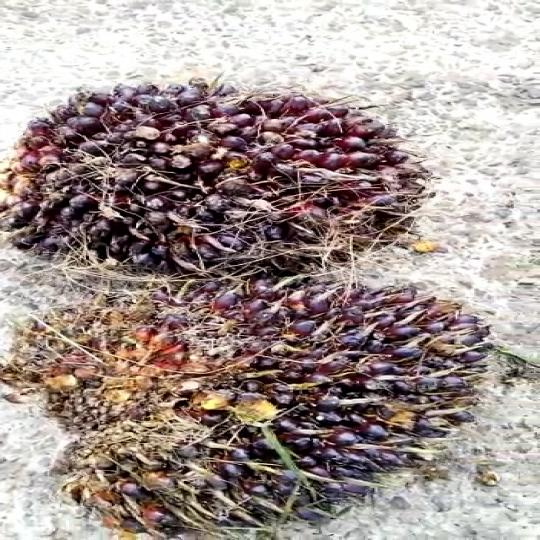kurang masak: (7, 277, 516, 540), (16, 70, 438, 293)
